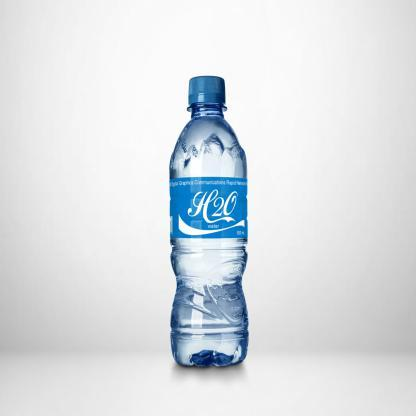bottle: (0, 0, 47, 167)
